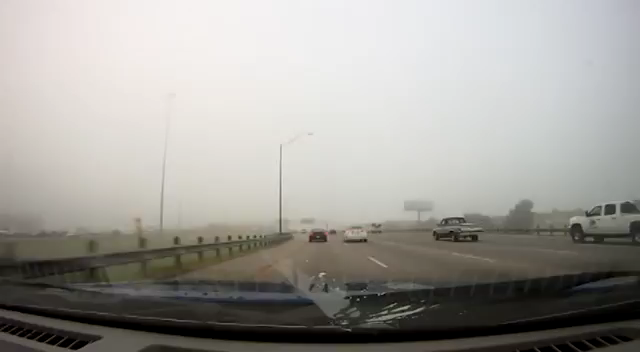car: (568, 201, 640, 243), (432, 216, 484, 242), (309, 228, 327, 243), (342, 225, 363, 235), (329, 228, 337, 235), (301, 229, 307, 233)
